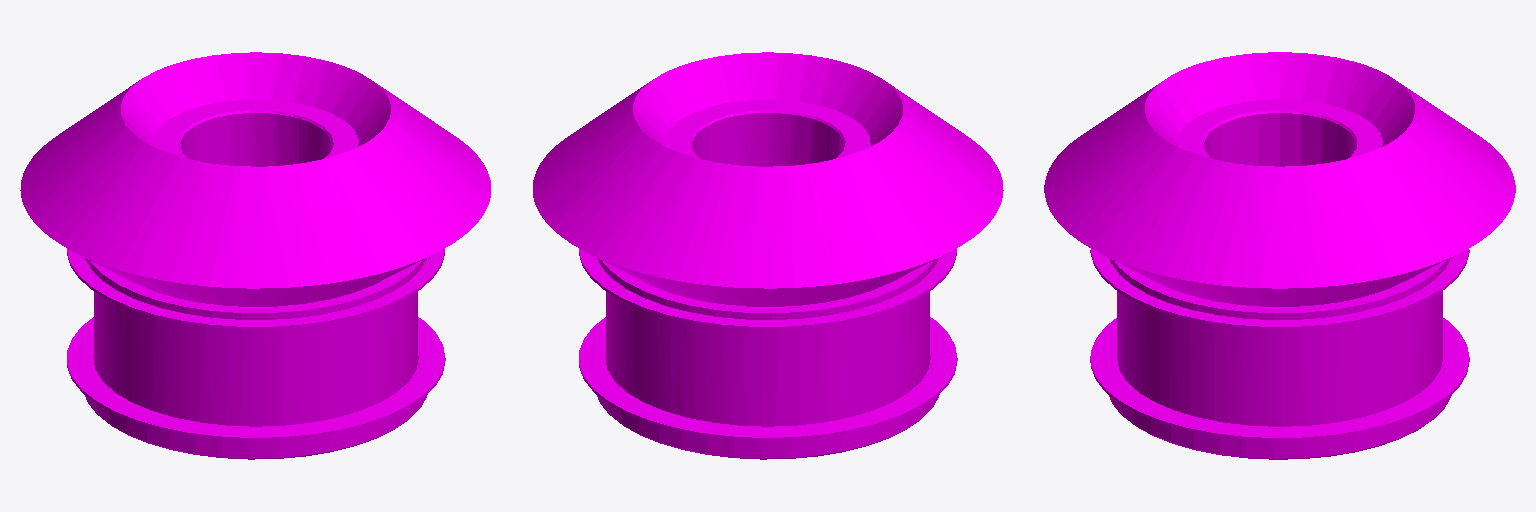
robot.urdf — SHI-100-000-000:
<?xml version="1.0" encoding="utf-8"?>
<!-- This URDF was automatically created by SolidWorks to URDF Exporter! Originally created by [author] ([email redacted]) 
     Commit Version: 1.6.0-4-g7f85cfe  Build Version: 1.6.7995.38578
     For more information, please see http://wiki.ros.org/sw_urdf_exporter -->
<robot
  name="SHI-100-000-000">
  <link
    name="base_link">
    <inertial>
      <origin
        xyz="-1.45592495183621E-10 8.43692702174942E-06 0.00163611202324997"
        rpy="0 0 0" />
      <mass
        value="2.67641567450746" />
      <inertia
        ixx="0.00431731052335752"
        ixy="-1.50621558967741E-11"
        ixz="2.51598501644799E-11"
        iyy="0.00239134959815202"
        iyz="-6.19850453745924E-06"
        izz="0.0024473174073865" />
    </inertial>
    <visual>
      <origin
        xyz="0 0 0"
        rpy="0 0 0" />
      <geometry>
        <mesh
          filename="./urdf/meshes/base_link.obj" />
      </geometry>
      <material
        name="">
        <color
          rgba="0.79 0.17 0.17 1" />
      </material>
    </visual>
    <collision>
      <origin
        xyz="0 0 0"
        rpy="0 0 0" />
      <geometry>
        <mesh
          filename="./urdf/meshes/base_link.obj" />
      </geometry>
    </collision>
  </link>
  <link
    name="link_1">
    <inertial>
      <origin
        xyz="0.130705312993651 0.00447228927937123 -0.000809954264871137"
        rpy="0 0 0" />
      <mass
        value="1.63477532447935" />
      <inertia
        ixx="0.0015788211208847"
        ixy="-7.1592717257346E-05"
        ixz="-3.10127315697788E-07"
        iyy="0.0162949059718312"
        iyz="-1.26179943670299E-07"
        izz="0.0174532922140121" />
    </inertial>
    <visual>
      <origin
        xyz="0 0 0"
        rpy="0 0 0" />
      <geometry>
        <mesh
          filename="./urdf/meshes/link_1.obj" />
      </geometry>
      <material
        name="">
        <color
          rgba="0.117647  0.533333  0.898039 1" />
      </material>
    </visual>
    <collision>
      <origin
        xyz="0 0 0"
        rpy="0 0 0" />
      <geometry>
        <mesh
          filename="./urdf/meshes/link_1.obj" />
      </geometry>
    </collision>
  </link>
  <joint
    name="joint_1"
    type="revolute">
    <origin
      xyz="0 0 0"
      rpy="0 1.5708 0" />
    <parent
      link="base_link" />
    <child
      link="link_1" />
    <axis
      xyz="0 0 1" />
    <limit
      lower="-3.14"
      upper="3.14"
      effort="10"
      velocity="13" />
  </joint>
  <link
    name="link_2">
    <inertial>
      <origin
        xyz="0.100412774437422 -0.000977095560987899 0.00245046613033639"
        rpy="0 0 0" />
      <mass
        value="0.778962529773284" />
      <inertia
        ixx="0.000544121685646857"
        ixy="3.80627229908875E-05"
        ixz="1.02706910194886E-08"
        iyy="0.00664408095860777"
        iyz="-9.61081703739117E-09"
        izz="0.00683264775914517" />
    </inertial>
    <visual>
      <origin
        xyz="0 0 0"
        rpy="0 0 0" />
      <geometry>
        <mesh
          filename="./urdf/meshes/link_2.obj" />
      </geometry>
      <material
        name="">
        <color
          rgba="1.0  0.756863  0.027451 1" />
      </material>
    </visual>
    <collision>
      <origin
        xyz="0 0 0"
        rpy="0 0 0" />
      <geometry>
        <mesh
          filename="./urdf/meshes/link_2.obj" />
      </geometry>
    </collision>
  </link>
  <joint
    name="joint_2"
    type="revolute">
    <origin
      xyz="0.4 0 0"
      rpy="0 0 0" />
    <parent
      link="link_1" />
    <child
      link="link_2" />
    <axis
      xyz="0 0 1" />
    <limit
      lower="-3.14"
      upper="3.14"
      effort="10"
      velocity="13" />
  </joint>
  <link
    name="link_3">
    <inertial>
      <origin
        xyz="0.00687391315700547 1.06000509000282E-16 -1.14473248550982E-18"
        rpy="0 0 0" />
      <mass
        value="0.143265032698164" />
      <inertia
        ixx="3.6758089464326E-05"
        ixy="-1.40146432710881E-21"
        ixz="3.87681265368744E-21"
        iyy="2.97205867403064E-05"
        iyz="-5.97349903846285E-15"
        izz="4.3940854372976E-05" />
    </inertial>
    <visual>
      <origin
        xyz="0 0 0"
        rpy="0 0 0" />
      <geometry>
        <mesh
          filename="./urdf/meshes/link_3.obj" />
      </geometry>
      <material
        name="">
        <color
          rgba="0.0  0.301961  0.25098 1" />
      </material>
    </visual>
    <collision>
      <origin
        xyz="0 0 0"
        rpy="0 0 0" />
      <geometry>
        <mesh
          filename="./urdf/meshes/link_3.obj" />
      </geometry>
    </collision>
  </link>
  <joint
    name="joint_3"
    type="revolute">
    <origin
      xyz="0.398 0 0"
      rpy="0 0 0" />
    <parent
      link="link_2" />
    <child
      link="link_3" />
    <axis
      xyz="0 0 1" />
    <limit
      lower="-3.14"
      upper="3.14"
      effort="10"
      velocity="13" />
  </joint>
  <link
    name="link_4">
    <inertial>
      <origin
        xyz="-1.2664E-17 -9.0587E-17 0.1"
        rpy="0 0 0" />
      <mass
        value="1.034981" />
      <inertia
        ixx="1.0E-04"
        ixy="1.1824E-08"
        ixz="2.4288E-22"
        iyy="1.0E-04"
        iyz="3.069E-22"
        izz="1.0E-03" />
    </inertial>
    <visual>
      <origin
        xyz="0 0 0"
        rpy="0 0 0" />
      <geometry>
        <mesh
          filename="./urdf/meshes/link_4.obj" />
      </geometry>
      <material
        name="">
        <color
          rgba="255 0 255 1" />
      </material>
    </visual>
    <collision>
      <origin
        xyz="0 0 0"
        rpy="0 0 0" />
      <geometry>
        <mesh
          filename="./urdf/meshes/link_4.obj" />
      </geometry>
    </collision>
  </link>
  <joint
    name="joint_4"
    type="revolute">
    <origin
      xyz="0 0 0"
      rpy="0 1.5708 0" />
    <parent
      link="link_3" />
    <child
      link="link_4" />
    <axis
      xyz="0 0 1" />
    <limit
      lower="-3.14"
      upper="3.14"
      effort="10"
      velocity="13" />
  </joint>
</robot>

--- Render facts (derived) ---
Views: 3 orthographic renders of the robot side by side, from view 1: azimuth 30°, elevation 25°; view 2: azimuth 150°, elevation 25°; view 3: azimuth 270°, elevation 25°.
Robot: SHI-100-000-000 — 5 links, 4 joints (4 revolute); root link base_link; default pose: every joint at zero.
Visible links, largest first — view 1: link_4; view 2: link_4; view 3: link_4.
Link boxes in pixels (<box>): link_4: <box>20,52,490,459</box>; link_4: <box>533,52,1003,459</box>; link_4: <box>1044,52,1515,459</box>.
Bounding box of the posed robot: 0.0435 × 0.0435 × 0.0283 m (x, y, z).
Meshes: 5 distinct files referenced, 1 mesh visuals loaded (1 OBJ); not drawn: 4 (reference not matched to a file when rendering).